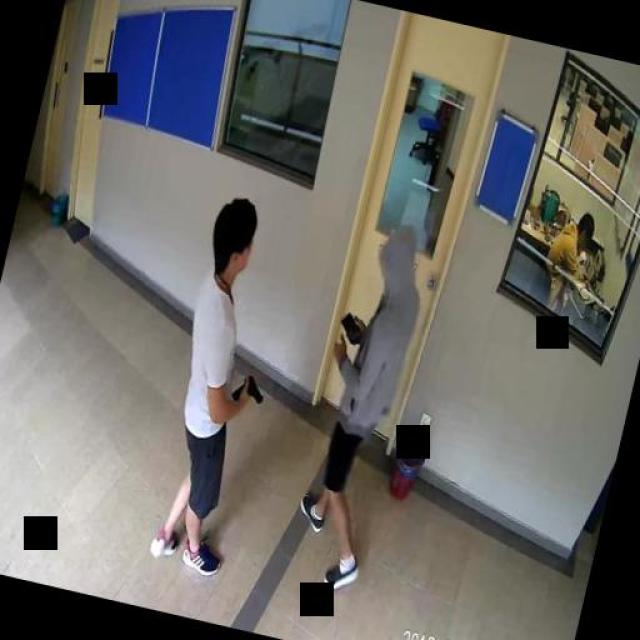gun: (230, 370, 268, 406)
